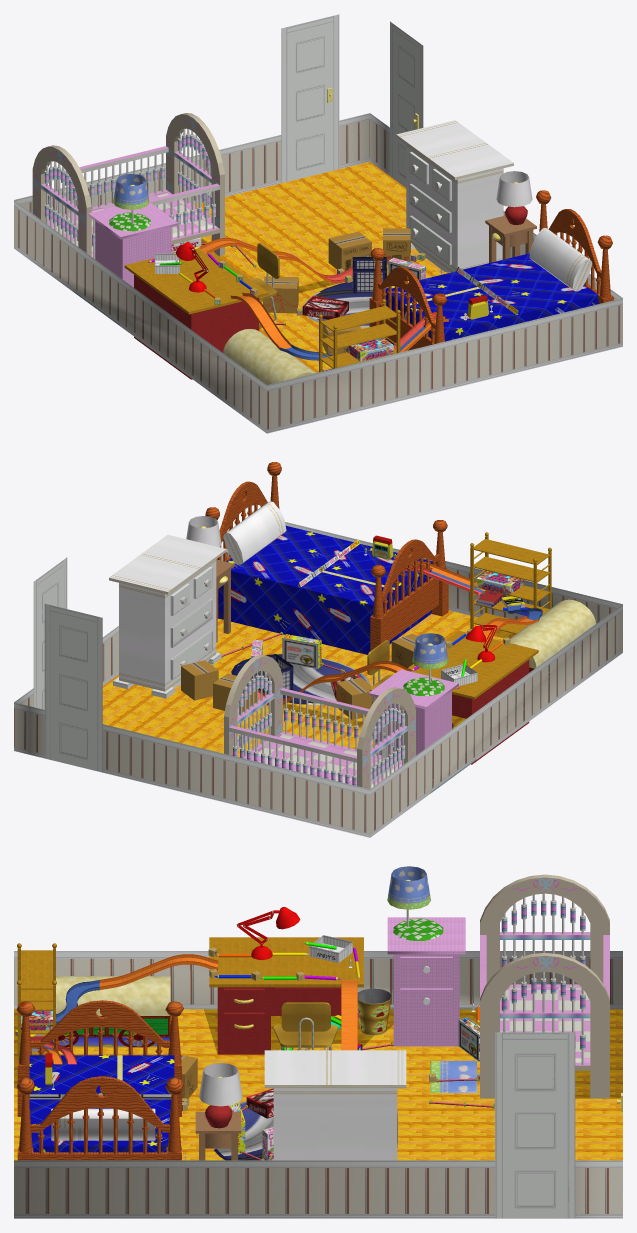
3 renders of one model, top to bottom at view 1: azimuth 30°, elevation 25°; view 2: azimuth 150°, elevation 25°; view 3: azimuth 270°, elevation 25°, orthographic. The views are drawn at different scales.
Parts seen in each view (by area): view 1: course_model-SKP--Trim.002, course_model-SKP--Floor.001, course_model-SKP--Pillow.001, course_model-SKP--Door.001, course_model-SKP--Blanket.001, course_model-SKP--Bookcase.001, course_model-SKP--CribStuff.001, course_model-SKP--BedWood.001, course_model-SKP--CribTop.001, course_model-SKP--MollysNightstand.001, course_model-SKP--Table.001, course_model-SKP--WagonTop.001 (+12 smaller); view 2: course_model-SKP--Trim.002, course_model-SKP--Blanket.001, course_model-SKP--Pillow.001, course_model-SKP--Floor.001, course_model-SKP--Door.001, course_model-SKP--CribStuff.001, course_model-SKP--BedWood.001, course_model-SKP--Bookcase.001, course_model-SKP--CribTop.001, course_model-SKP--CribBed.001, course_model-SKP--WagonTop.001, course_model-SKP--MollysNightstand.001 (+12 smaller); view 3: course_model-SKP--Trim.002, course_model-SKP--Pillow.001, course_model-SKP--Floor.001, course_model-SKP--BedWood.001, course_model-SKP--Door.001, course_model-SKP--CribTop.001, course_model-SKP--Bookcase.001, course_model-SKP--MollysNightstand.001, course_model-SKP--Blanket.001, course_model-SKP--Table.001, course_model-SKP--CribStuff.001, course_model-SKP--CribBed.001 (+16 smaller).
Boxes of the visible parts, left/top/right/bottom form: course_model-SKP--Trim.002: left=14, top=14, right=622, bottom=433; course_model-SKP--Floor.001: left=194, top=162, right=450, bottom=372; course_model-SKP--Pillow.001: left=396, top=120, right=592, bottom=291; course_model-SKP--Door.001: left=213, top=22, right=492, bottom=320; course_model-SKP--Blanket.001: left=385, top=253, right=598, bottom=344; course_model-SKP--Bookcase.001: left=124, top=247, right=400, bottom=372; course_model-SKP--CribStuff.001: left=41, top=129, right=441, bottom=258; course_model-SKP--BedWood.001: left=369, top=190, right=613, bottom=350; course_model-SKP--CribTop.001: left=32, top=113, right=224, bottom=256; course_model-SKP--MollysNightstand.001: left=88, top=202, right=178, bottom=287; course_model-SKP--Table.001: left=134, top=206, right=527, bottom=379; course_model-SKP--WagonTop.001: left=223, top=329, right=315, bottom=384; course_model-SKP--Trim.002: left=14, top=522, right=622, bottom=837; course_model-SKP--Blanket.001: left=218, top=525, right=432, bottom=654; course_model-SKP--Pillow.001: left=109, top=501, right=286, bottom=691; course_model-SKP--Floor.001: left=102, top=536, right=551, bottom=757; course_model-SKP--Door.001: left=37, top=548, right=520, bottom=770; course_model-SKP--CribStuff.001: left=180, top=579, right=430, bottom=788; course_model-SKP--BedWood.001: left=205, top=462, right=448, bottom=650; course_model-SKP--Bookcase.001: left=408, top=532, right=551, bottom=699; course_model-SKP--CribTop.001: left=224, top=655, right=415, bottom=789; course_model-SKP--CribBed.001: left=229, top=688, right=407, bottom=787; course_model-SKP--WagonTop.001: left=510, top=599, right=595, bottom=668; course_model-SKP--MollysNightstand.001: left=368, top=669, right=458, bottom=760; course_model-SKP--Trim.002: left=14, top=951, right=622, bottom=1218; course_model-SKP--Pillow.001: left=51, top=1050, right=406, bottom=1160; course_model-SKP--Floor.001: left=14, top=948, right=622, bottom=1160; course_model-SKP--BedWood.001: left=16, top=1000, right=183, bottom=1160; course_model-SKP--Door.001: left=51, top=959, right=567, bottom=1218; course_model-SKP--CribTop.001: left=480, top=874, right=609, bottom=1098; course_model-SKP--Bookcase.001: left=17, top=937, right=363, bottom=1059; course_model-SKP--MollysNightstand.001: left=387, top=917, right=465, bottom=1046; course_model-SKP--Blanket.001: left=29, top=1055, right=174, bottom=1152; course_model-SKP--Table.001: left=205, top=987, right=341, bottom=1128; course_model-SKP--CribStuff.001: left=406, top=893, right=590, bottom=1064; course_model-SKP--CribBed.001: left=480, top=932, right=609, bottom=1065.
Size of the model in its own units: 91228 by 40379 by 112081.
61 materials, 61 textured.
